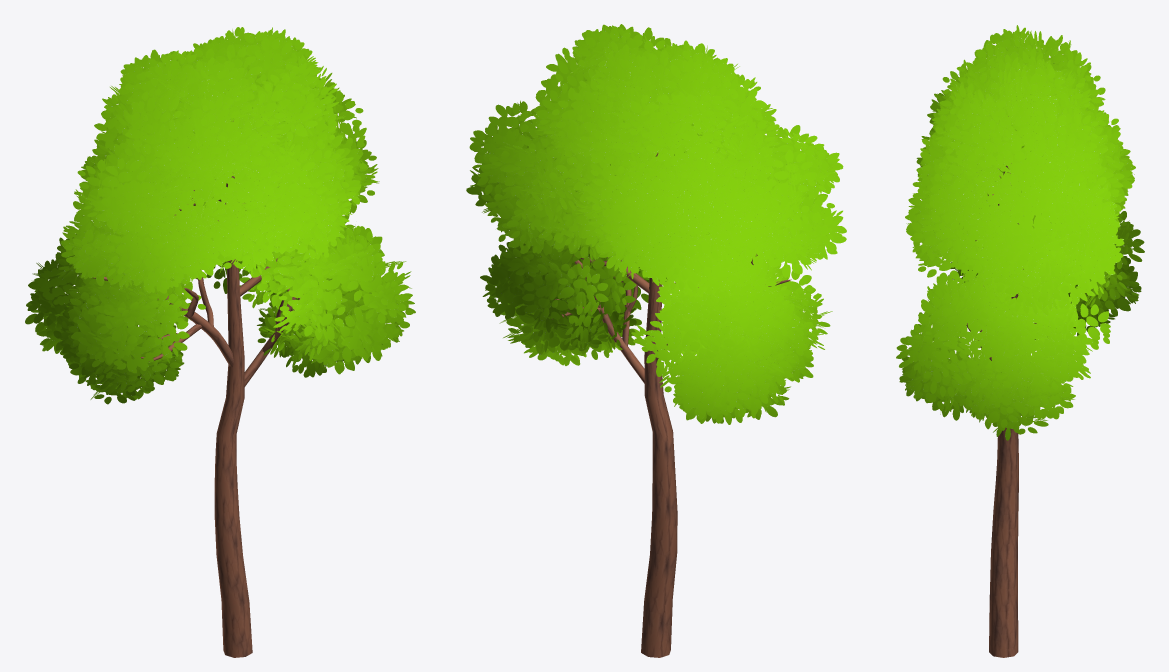
The model's file is quaternius-ultimate-stylized-nature-normal-tree-1.glb.
3 renders of one model, left to right at view 1: azimuth 30°, elevation 25°; view 2: azimuth 150°, elevation 25°; view 3: azimuth 270°, elevation 25°, orthographic. The views are drawn at different scales.
Visible parts, largest first — view 1: NormalTree_1; view 2: NormalTree_1; view 3: NormalTree_1.
Boxes of the visible parts, x1,y1,x2,y2 form: NormalTree_1: (25, 27, 415, 657); NormalTree_1: (466, 24, 846, 657); NormalTree_1: (896, 25, 1144, 657).
Size of the model in its own units: 4.05 by 6.87 by 2.74.
2 materials, 2 textured.
